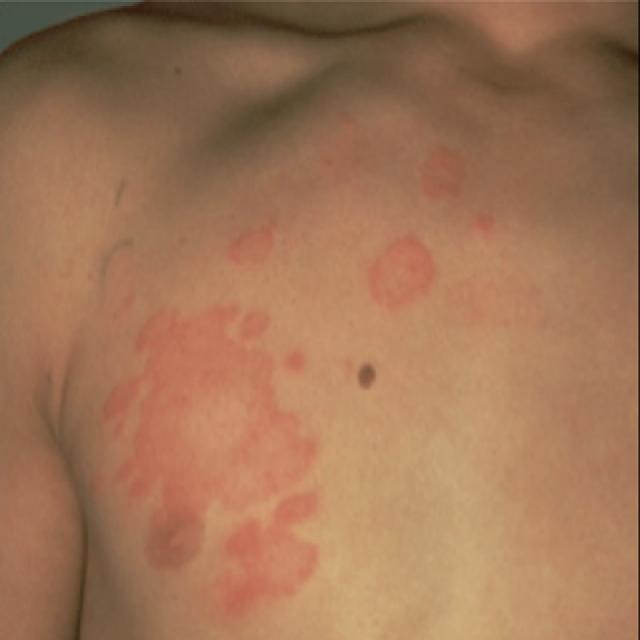Ringworm: (217, 482, 325, 627), (355, 220, 452, 323), (415, 133, 478, 210), (223, 218, 298, 275), (233, 298, 273, 355)
